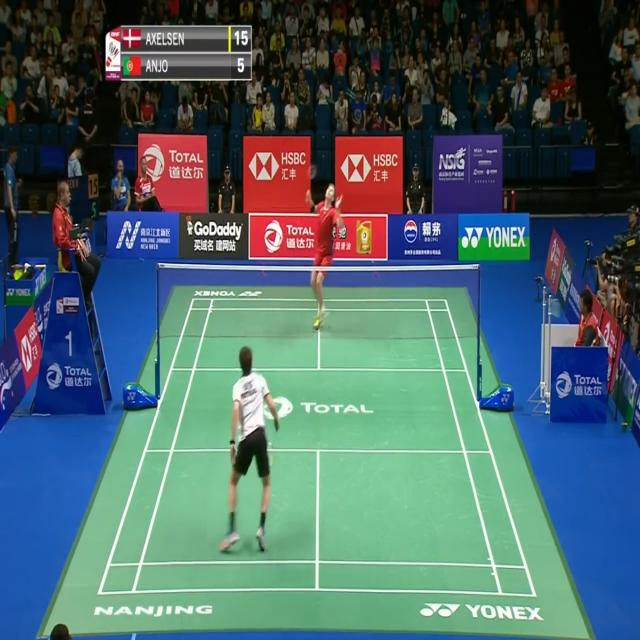Player1: (216, 338, 282, 562)
Player2: (302, 170, 346, 340)
